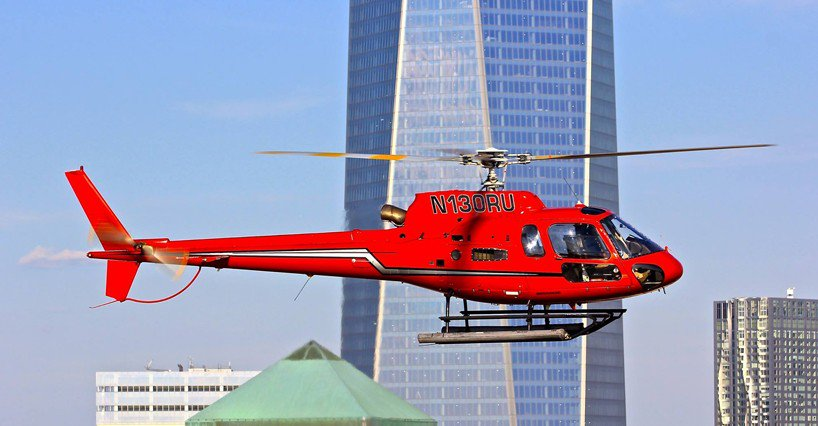Helicopter: (67, 145, 713, 358)
